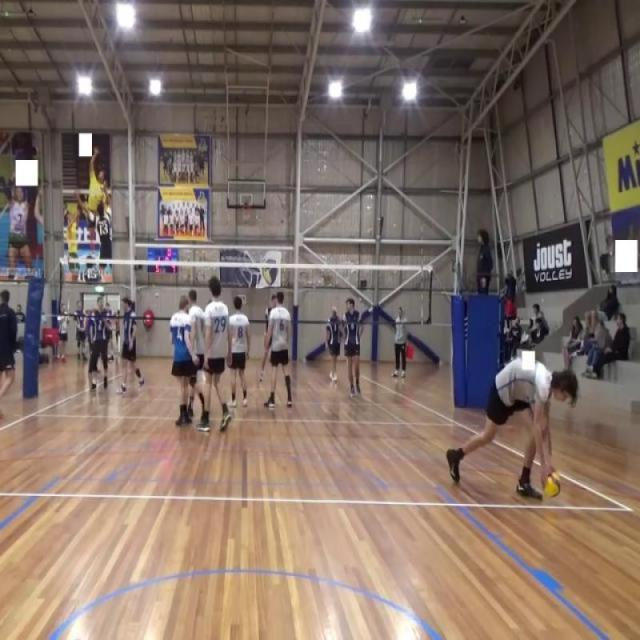volleyball: (541, 471, 563, 502)
